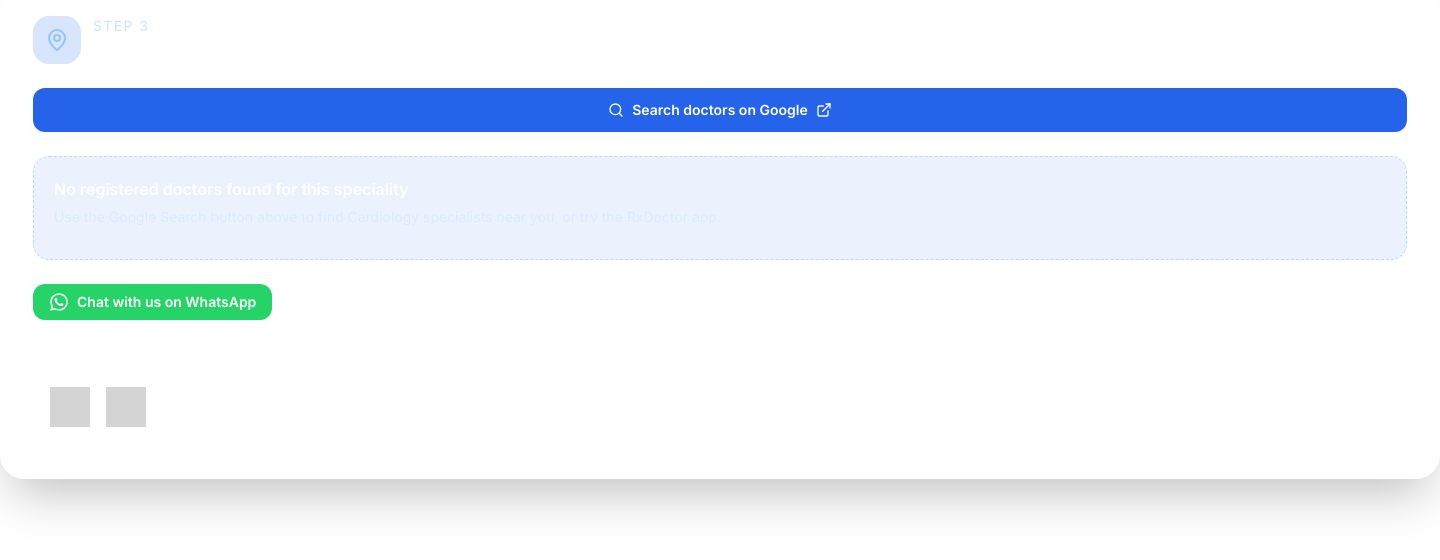
Test: DoctorResultsPanel - fallback link › shows fallback link after clicking the Google search button
Click the link with test id "google-search-button": (720, 110) [33, 88, 1407, 132]
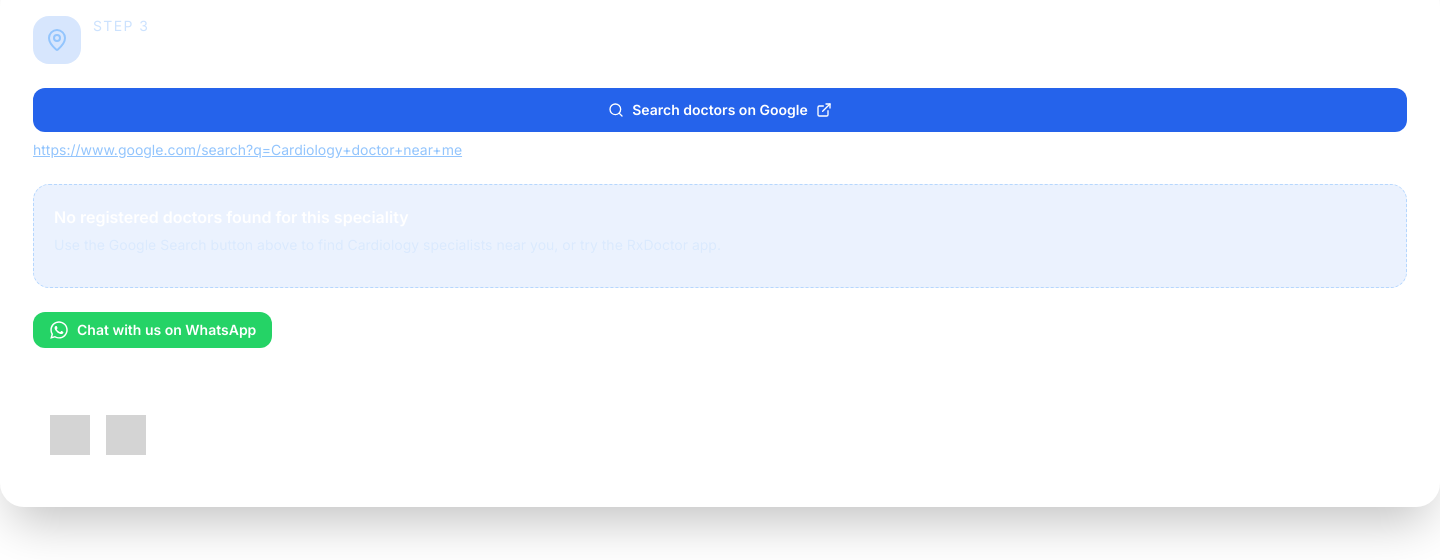
Expected: the link with test id "google-search-fallback" is shown, [33, 141, 462, 158]
